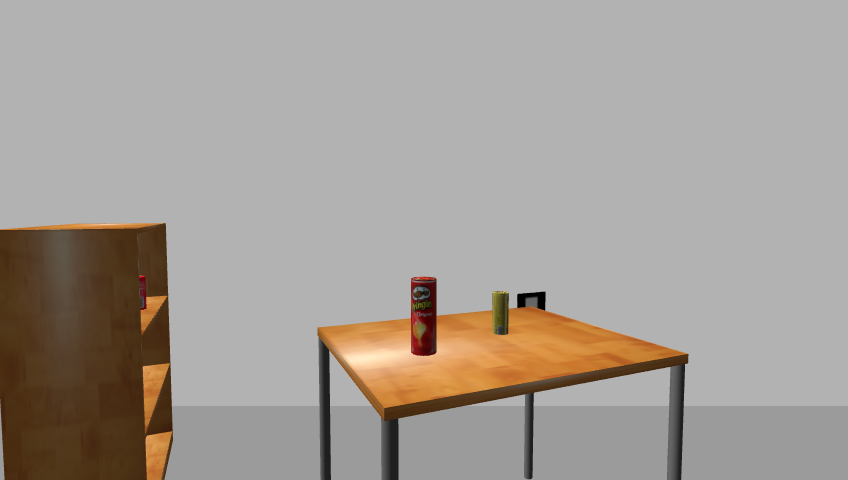aruco marker: (513, 291, 549, 314)
biscuits pack: (491, 291, 509, 336)
bookshelf: (0, 222, 179, 479)
coke can: (137, 276, 148, 311)
dinner table: (310, 306, 696, 480)
pringles can: (408, 276, 439, 358)
